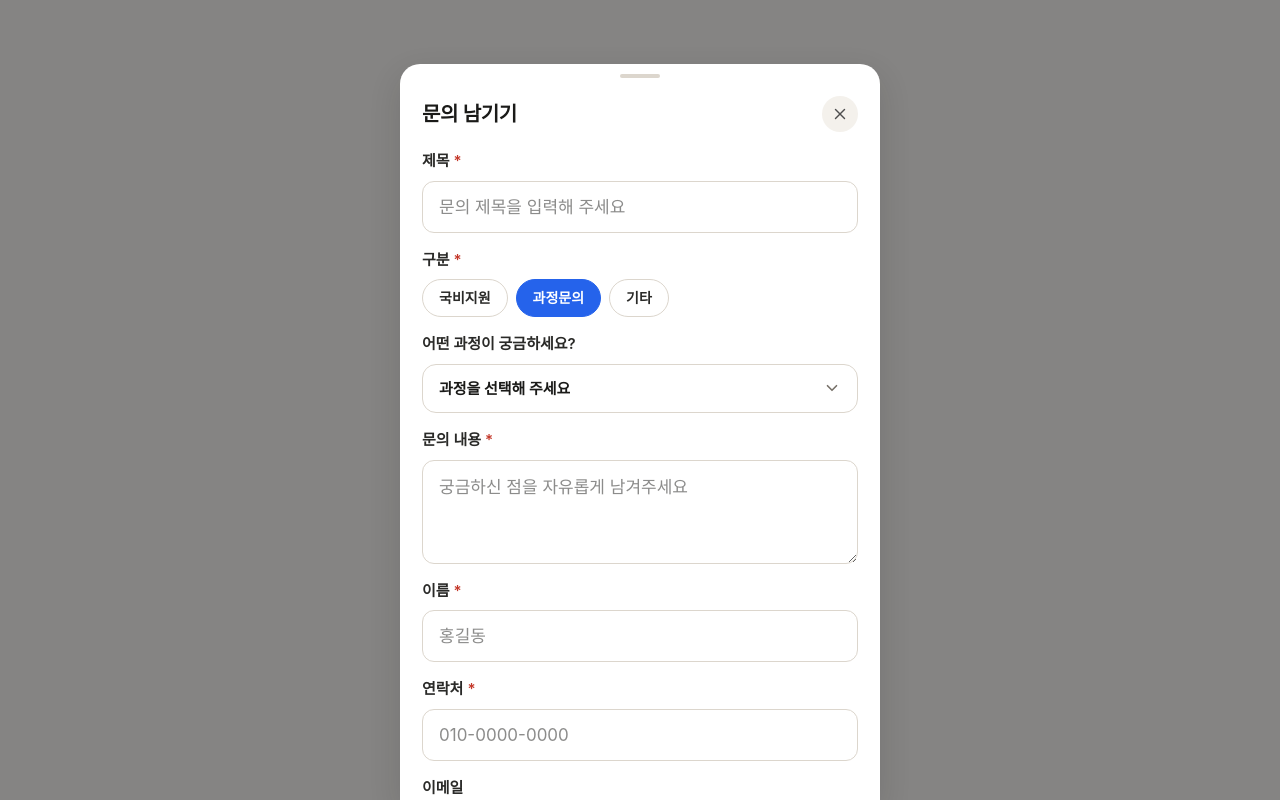
ConsultSheet › inquiry 모드: 게시판 글쓰기 폼으로 제목·내용·이름·연락처 입력 후 문의 등록하면 완료 메시지 표시
Type "수업 시간 문의" into the field with placeholder "문의 제목을 입력해 주세요". click: (640,206)
box: [422,180,858,232]
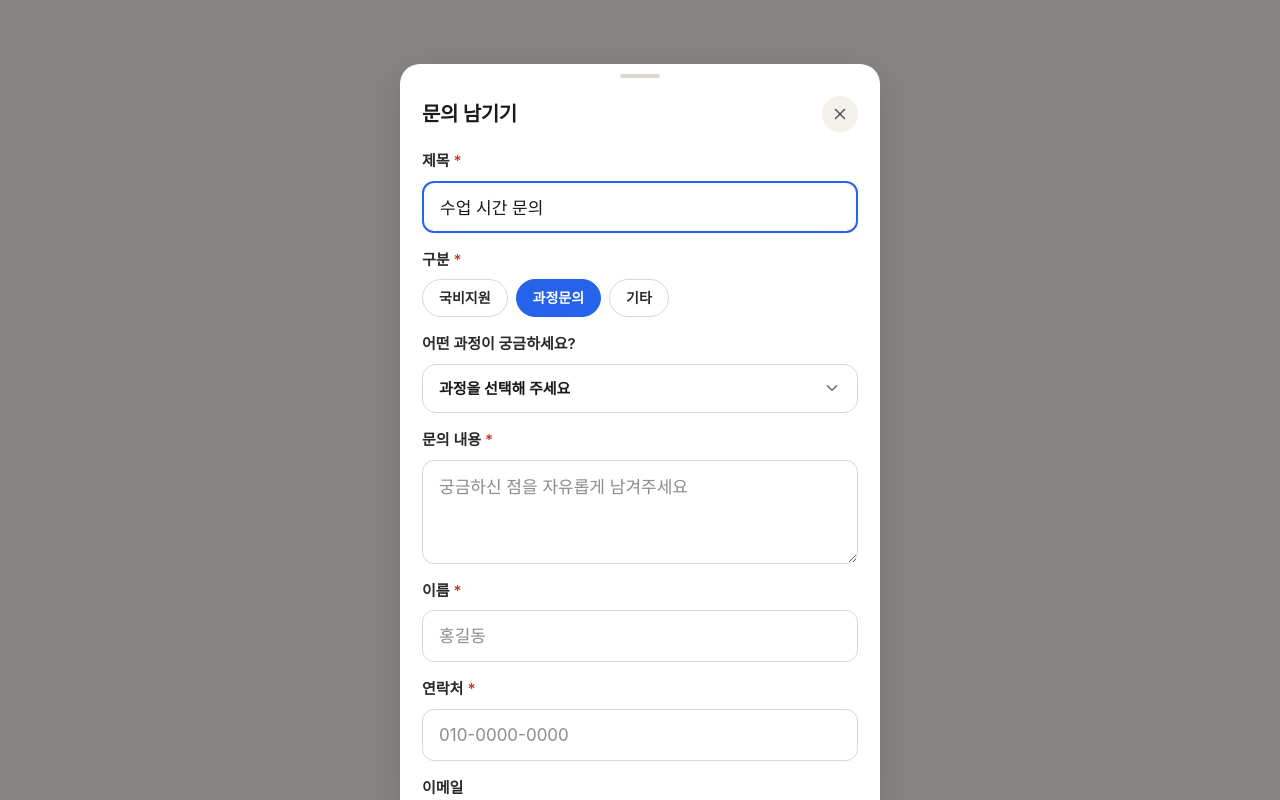
Type "오후반도 있나요?" into the text box with placeholder "궁금하신 점을 자유롭게 남겨주세요". click: (640,512)
box: [422,460,858,564]
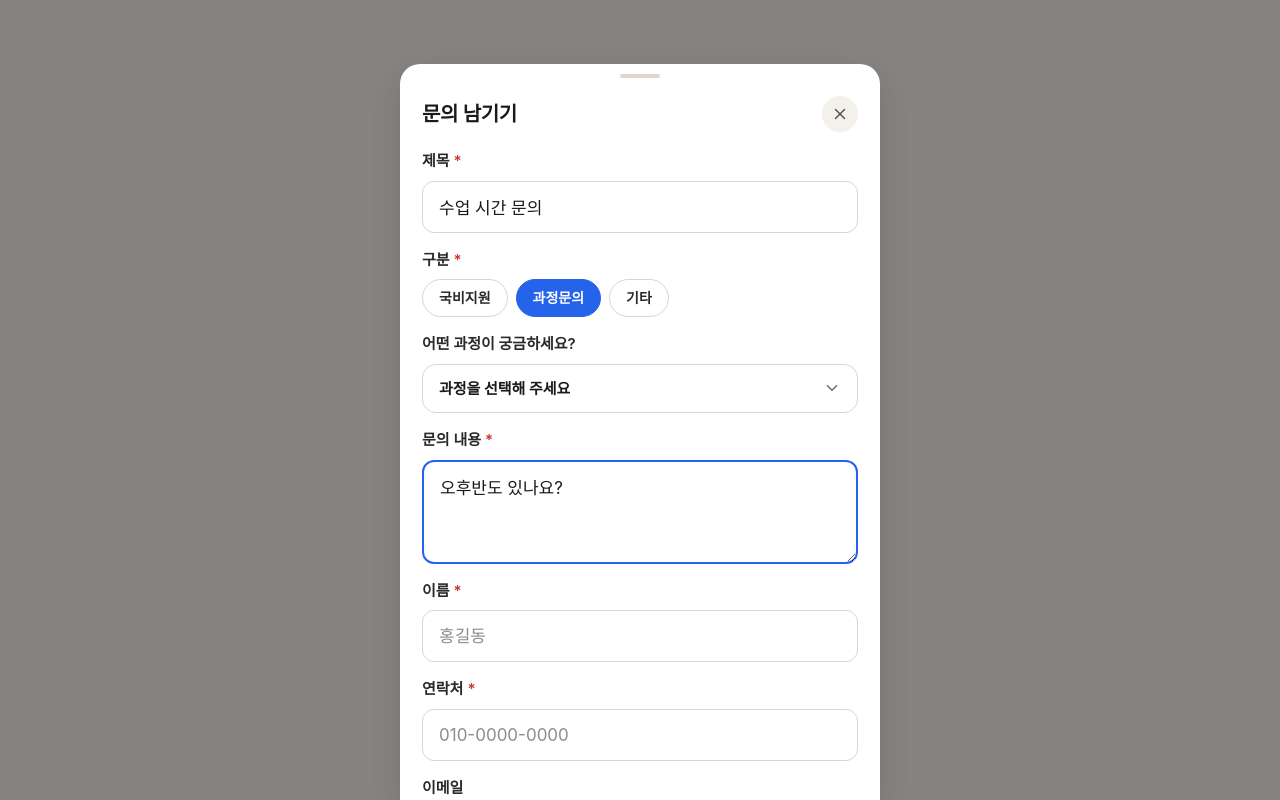
Type "김문의" into the field with placeholder "홍길동". click: (640,636)
box: [422,610,858,662]
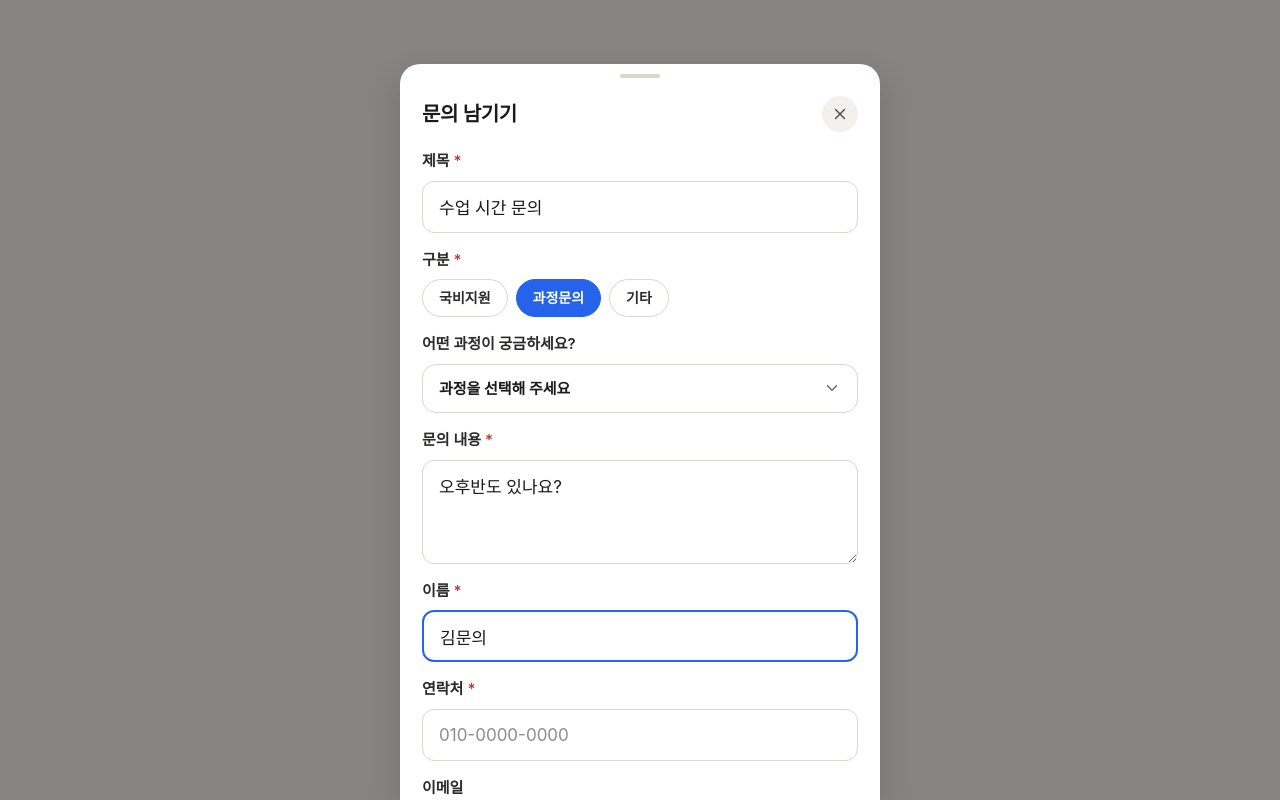
Type "010-1111-2222" into the field with placeholder "010-0000-0000". click: (640,734)
box: [422,708,858,760]
(page scrolled)
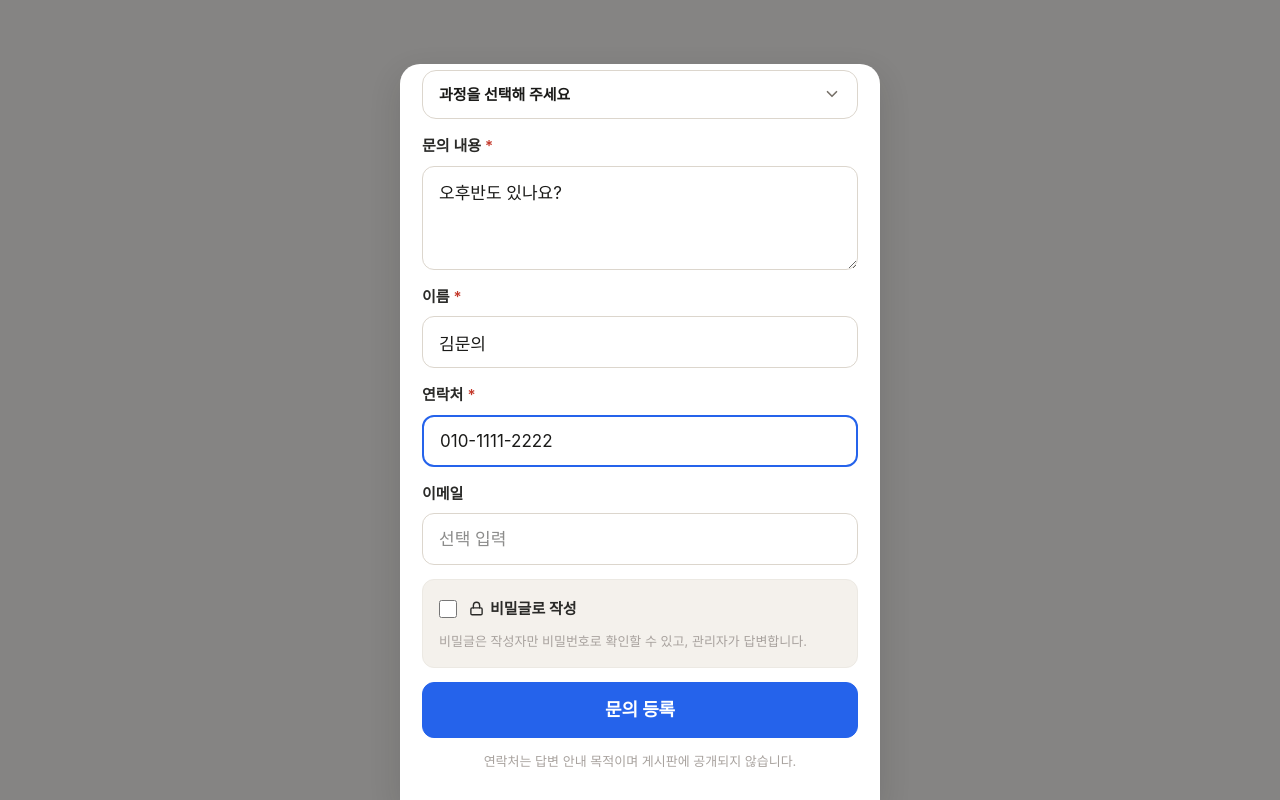
Click the button "문의 등록". click: (640,710)
box: [422,682,858,738]
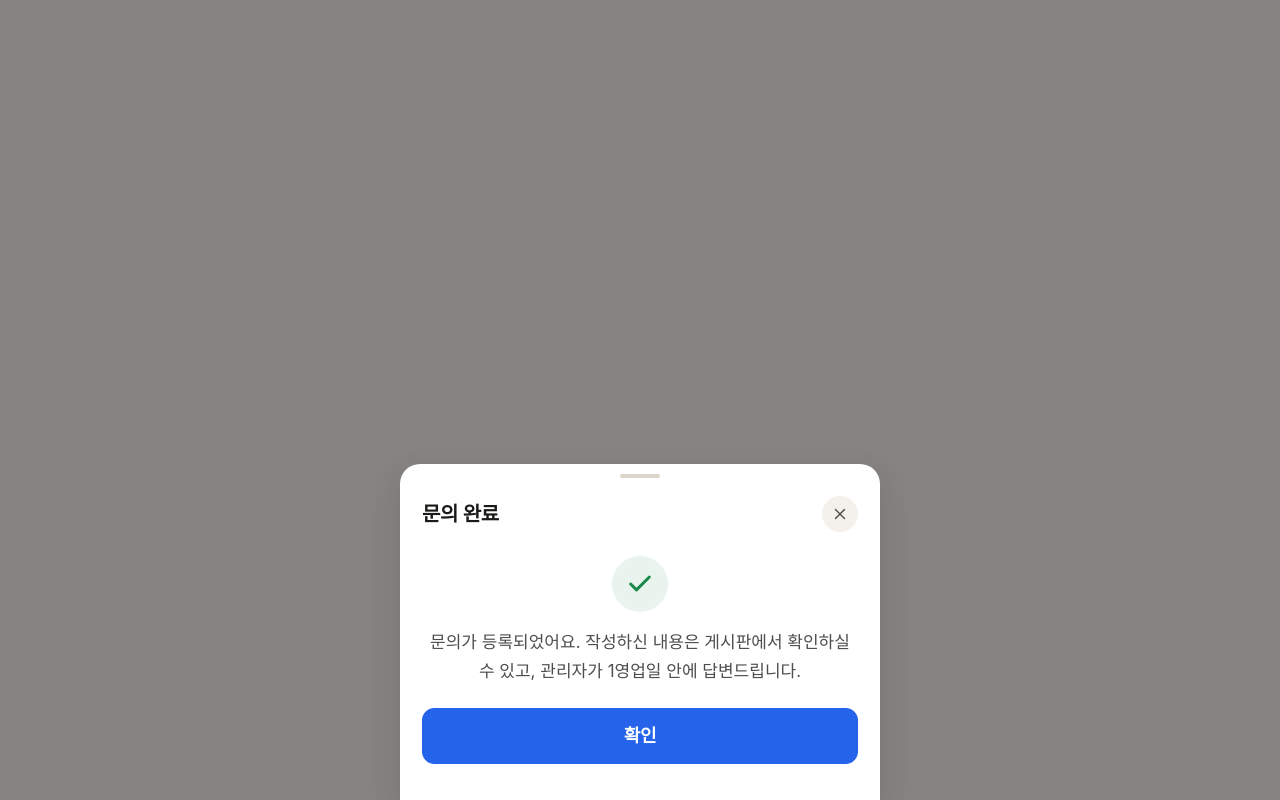
Expected: the text "문의가 등록되었어요. 작성하신 내용은 게시판에서 확인하실 수 있고, 관리자가 1영업일 안에 답변드립니다." is shown, [422,628,858,686]
